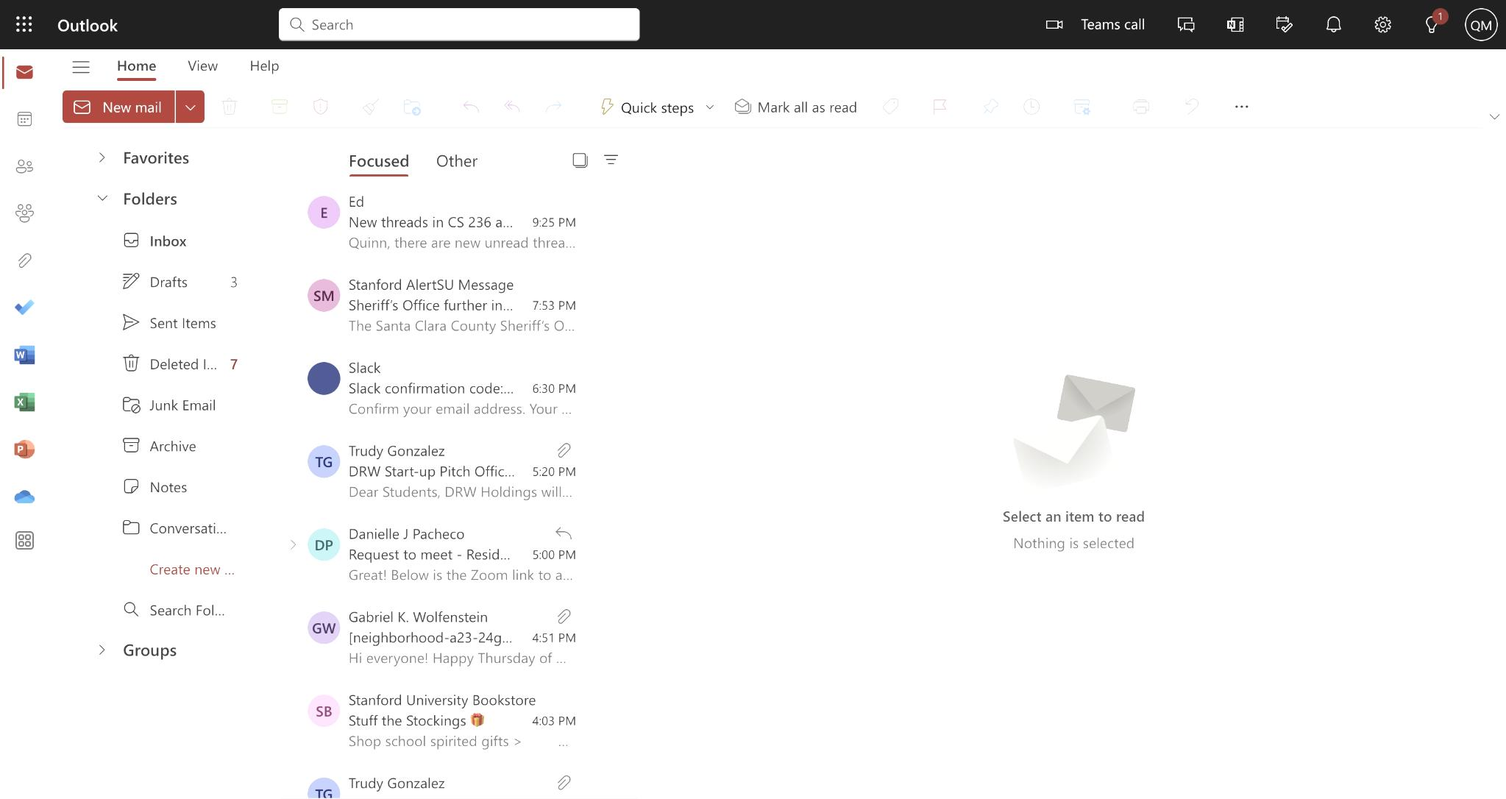webelement: (278, 182, 639, 797), (57, 128, 276, 798), (50, 48, 1506, 127), (0, 0, 1505, 48), (278, 431, 621, 514), (278, 514, 621, 597), (278, 597, 621, 680), (278, 182, 621, 264), (278, 265, 621, 347), (278, 348, 621, 430), (278, 681, 621, 763), (592, 86, 1112, 126), (3, 48, 44, 520), (348, 627, 1154, 646), (62, 86, 441, 126), (278, 764, 621, 799), (73, 136, 256, 177), (73, 260, 256, 301), (73, 424, 256, 465), (73, 588, 256, 629), (73, 178, 256, 218), (73, 219, 256, 259), (73, 301, 256, 341), (73, 342, 256, 382), (73, 383, 256, 423), (73, 465, 256, 505), (73, 506, 256, 546), (73, 547, 256, 587), (73, 629, 256, 669), (309, 12, 627, 33), (100, 48, 294, 80), (348, 294, 654, 313), (348, 461, 647, 480), (451, 86, 582, 126), (1041, 0, 1148, 48), (722, 90, 869, 122), (348, 231, 575, 251), (348, 397, 575, 417), (348, 480, 575, 500), (348, 563, 575, 583), (348, 646, 575, 666), (348, 729, 575, 749), (348, 211, 585, 230), (348, 377, 569, 397), (348, 315, 575, 334), (348, 544, 575, 563), (348, 689, 535, 709), (62, 90, 175, 122), (593, 91, 700, 121), (348, 274, 513, 293), (57, 0, 117, 48), (348, 136, 408, 181), (348, 606, 487, 625), (348, 710, 484, 729), (121, 145, 237, 167), (121, 186, 237, 208), (121, 637, 237, 659), (1211, 0, 1260, 48), (1358, 0, 1407, 48), (1407, 0, 1456, 48), (0, 0, 48, 48), (1162, 0, 1210, 48), (1260, 0, 1308, 48), (1309, 0, 1357, 48), (1457, 0, 1505, 48), (348, 523, 463, 542), (422, 143, 489, 175), (435, 136, 476, 181), (348, 440, 444, 459), (149, 558, 237, 578), (3, 146, 44, 187), (3, 193, 44, 234), (3, 240, 44, 281), (3, 287, 44, 328), (3, 334, 44, 375), (3, 382, 44, 423), (3, 429, 44, 470), (3, 476, 44, 517), (149, 435, 237, 454), (3, 52, 44, 92), (3, 99, 44, 139), (3, 521, 44, 561), (391, 90, 441, 122), (869, 90, 919, 122), (1010, 90, 1060, 122), (1061, 90, 1111, 122), (1221, 86, 1261, 126), (757, 98, 856, 114), (149, 230, 232, 249), (149, 312, 232, 331), (149, 394, 232, 413), (149, 476, 232, 495), (149, 517, 232, 536), (149, 599, 232, 618), (112, 49, 160, 79), (60, 50, 100, 84), (149, 271, 219, 290), (149, 353, 219, 372), (969, 90, 1010, 122), (1120, 90, 1161, 122), (259, 90, 299, 122), (350, 90, 390, 122), (451, 90, 491, 122), (492, 90, 532, 122), (1171, 90, 1211, 122), (183, 49, 221, 79), (245, 49, 283, 79), (208, 90, 242, 122), (299, 90, 333, 122), (919, 90, 953, 122), (533, 90, 566, 122), (307, 361, 339, 394), (307, 444, 339, 477), (307, 195, 339, 227), (307, 278, 339, 310), (307, 528, 339, 560), (307, 611, 339, 643), (307, 694, 339, 726), (515, 544, 575, 561), (88, 136, 114, 174), (88, 178, 114, 215), (88, 629, 114, 666), (515, 213, 575, 229), (515, 296, 575, 312), (515, 379, 575, 395), (515, 462, 575, 478), (515, 628, 575, 644), (515, 711, 575, 727), (594, 144, 627, 173), (102, 98, 160, 114), (175, 90, 204, 122), (1080, 16, 1144, 30), (565, 144, 594, 173), (15, 0, 32, 48), (1227, 0, 1243, 48), (1276, 0, 1292, 48), (1374, 0, 1390, 48), (1424, 0, 1440, 48), (1231, 87, 1251, 125), (307, 777, 339, 799), (269, 91, 289, 121), (360, 91, 380, 121), (461, 91, 481, 121), (502, 91, 522, 121), (1130, 91, 1150, 121), (1181, 91, 1201, 121), (348, 357, 379, 376), (980, 91, 999, 121), (116, 58, 156, 72), (566, 90, 583, 122), (242, 90, 258, 122), (333, 90, 349, 122), (953, 90, 969, 122), (700, 91, 717, 121), (180, 95, 200, 117), (187, 58, 217, 72), (249, 58, 279, 72), (14, 62, 33, 82), (14, 109, 33, 129), (14, 156, 33, 176), (14, 203, 33, 223), (14, 297, 33, 317), (14, 344, 33, 364), (14, 391, 33, 411), (14, 438, 33, 458), (14, 485, 33, 505), (14, 531, 33, 551), (14, 251, 33, 270), (1485, 106, 1503, 126), (278, 182, 282, 264), (278, 264, 282, 346), (278, 514, 282, 596), (278, 597, 282, 679), (278, 680, 282, 762), (278, 348, 282, 429), (278, 431, 282, 512), (348, 191, 363, 210), (1432, 7, 1448, 24), (566, 98, 583, 114), (242, 98, 258, 114), (333, 98, 349, 114), (953, 98, 969, 114), (284, 536, 300, 552), (228, 353, 237, 372), (278, 764, 282, 799), (230, 271, 237, 290)
